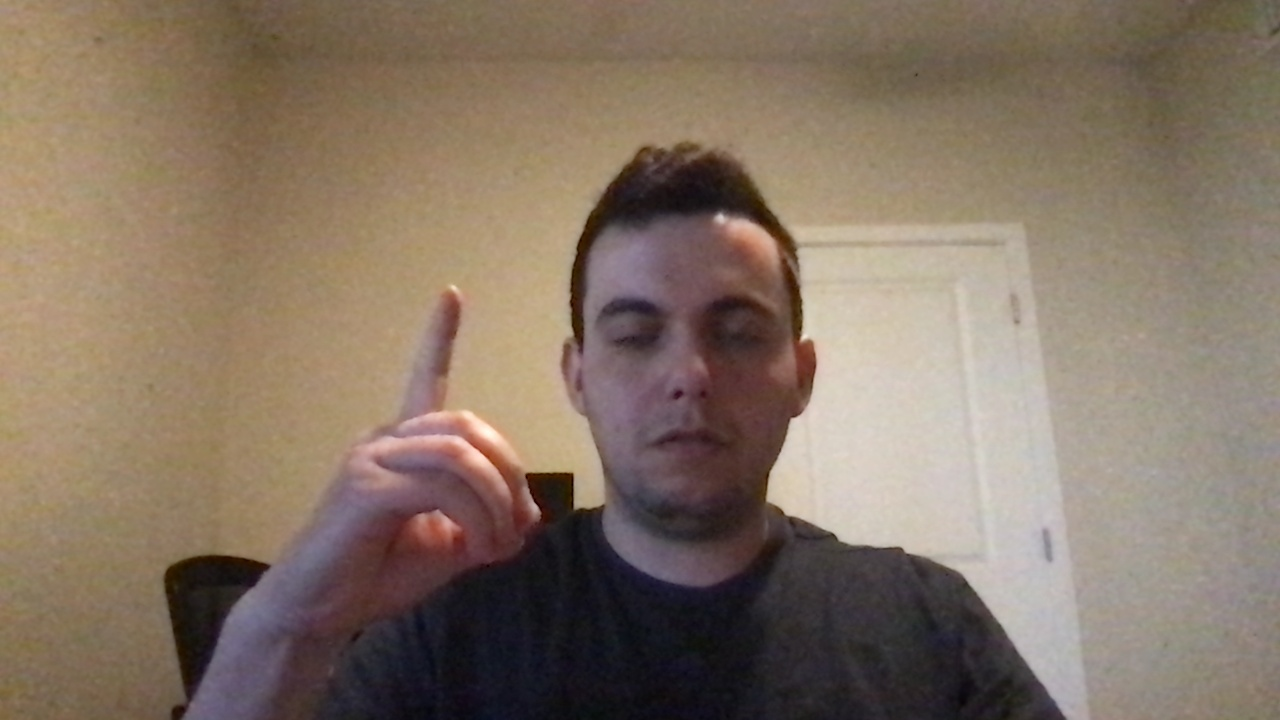d: (260, 274, 575, 609)
